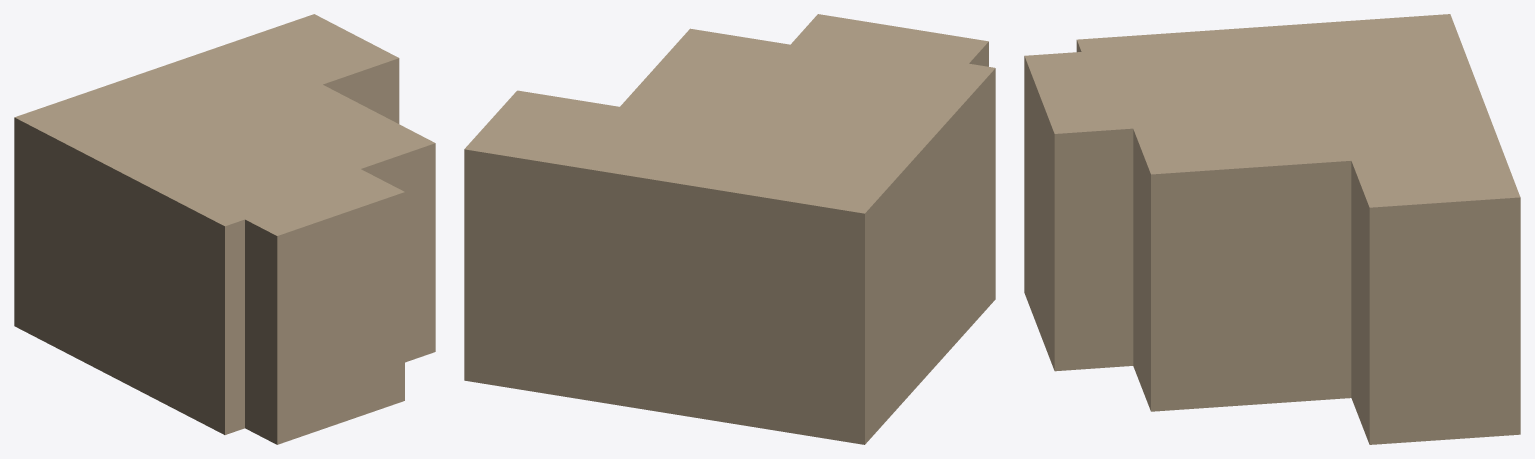
Rendered from bld_99867781.dae.
3 views of the same model, side by side, from view 1: azimuth 30°, elevation 25°; view 2: azimuth 150°, elevation 25°; view 3: azimuth 270°, elevation 25° (orthographic). The views are drawn at different scales.
Parts seen in each view (by area): view 1: bld_99867781; view 2: bld_99867781; view 3: bld_99867781.
Part boxes in pixels (x1=…): bld_99867781: x1=14, y1=14, x2=435, y2=444; bld_99867781: x1=464, y1=14, x2=995, y2=444; bld_99867781: x1=1024, y1=14, x2=1520, y2=444.
Bounding box in the file's own units: 14.01 × 15.16 × 8.
